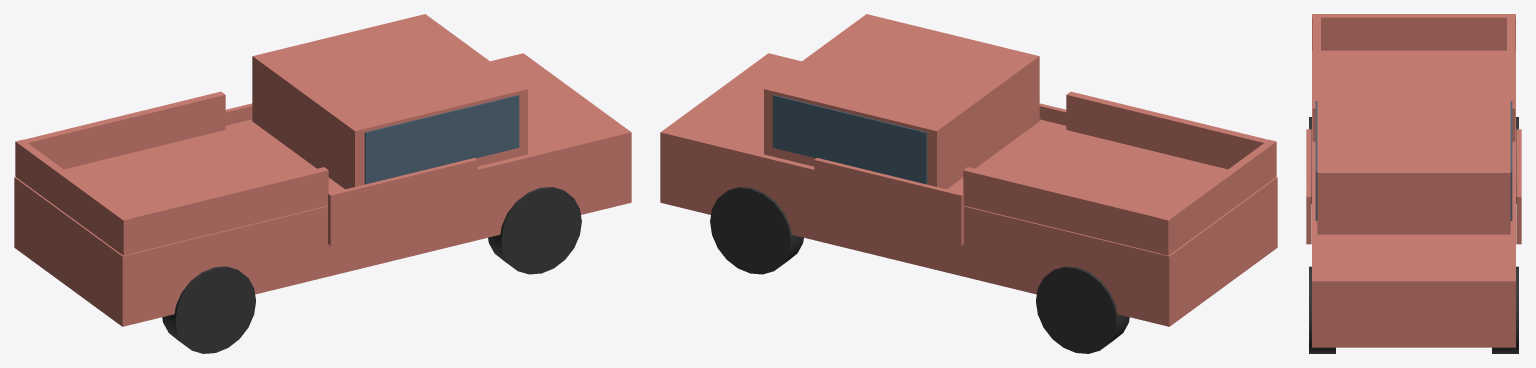
The model's file is pickup.glb.
The picture shows the model from 3 angles, left to right: view 1: azimuth 30°, elevation 25°; view 2: azimuth 150°, elevation 25°; view 3: azimuth 270°, elevation 25°; orthographic projection. The views are drawn at different scales.
Visible parts, largest first — view 1: body, cabin, glass, door_L, bedL, bedR, wheel_2, wheel_0, bedT; view 2: body, cabin, glass, door_R, bedR, bedL, wheel_3, wheel_1, bedT; view 3: body, cabin, bedT, bedR, bedL, glass, door_L, door_R, wheel_0, wheel_1.
Part boxes in pixels (<box>): body: <box>14,53,631,326</box>; cabin: <box>252,14,527,189</box>; glass: <box>364,95,519,184</box>; door_L: <box>328,158,477,245</box>; bedL: <box>123,167,328,253</box>; bedR: <box>20,91,225,169</box>; wheel_2: <box>162,266,255,353</box>; wheel_0: <box>488,187,581,274</box>; bedT: <box>15,139,131,255</box>; body: <box>660,53,1277,326</box>; cabin: <box>764,14,1039,189</box>; glass: <box>772,95,927,184</box>; door_R: <box>814,158,963,245</box>; bedR: <box>963,167,1168,253</box>; bedL: <box>1066,91,1271,169</box>; wheel_3: <box>1036,266,1129,353</box>; wheel_1: <box>710,187,803,274</box>; bedT: <box>1160,139,1276,255</box>; body: <box>1312,50,1515,347</box>; cabin: <box>1317,93,1510,234</box>; bedT: <box>1312,14,1515,50</box>; bedR: <box>1507,15,1515,141</box>; bedL: <box>1312,15,1320,141</box>; glass: <box>1315,101,1512,220</box>; door_L: <box>1306,129,1311,244</box>; door_R: <box>1516,129,1521,244</box>; wheel_0: <box>1309,266,1335,353</box>; wheel_1: <box>1492,266,1518,353</box>.
Bounding box in the file's own units: 5.3 × 1.82 × 2.06.
